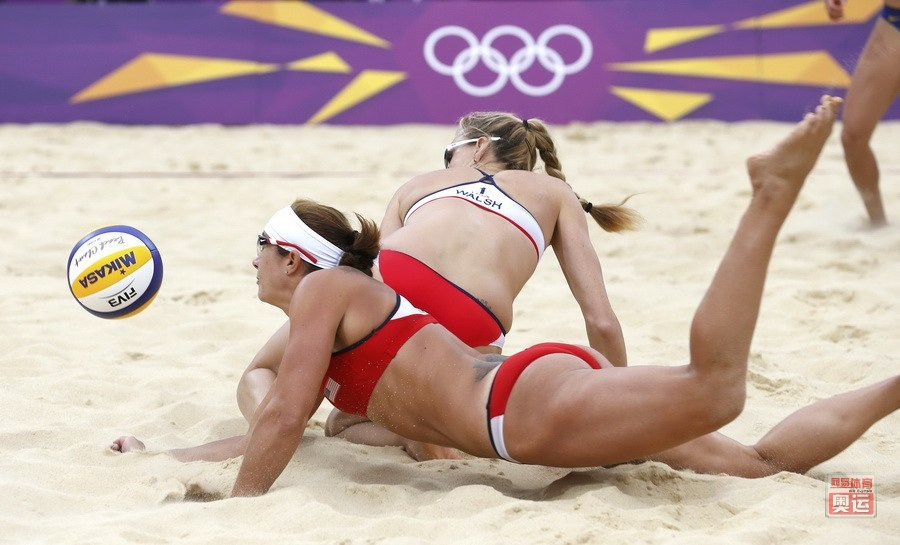fall: (178, 72, 836, 524)
